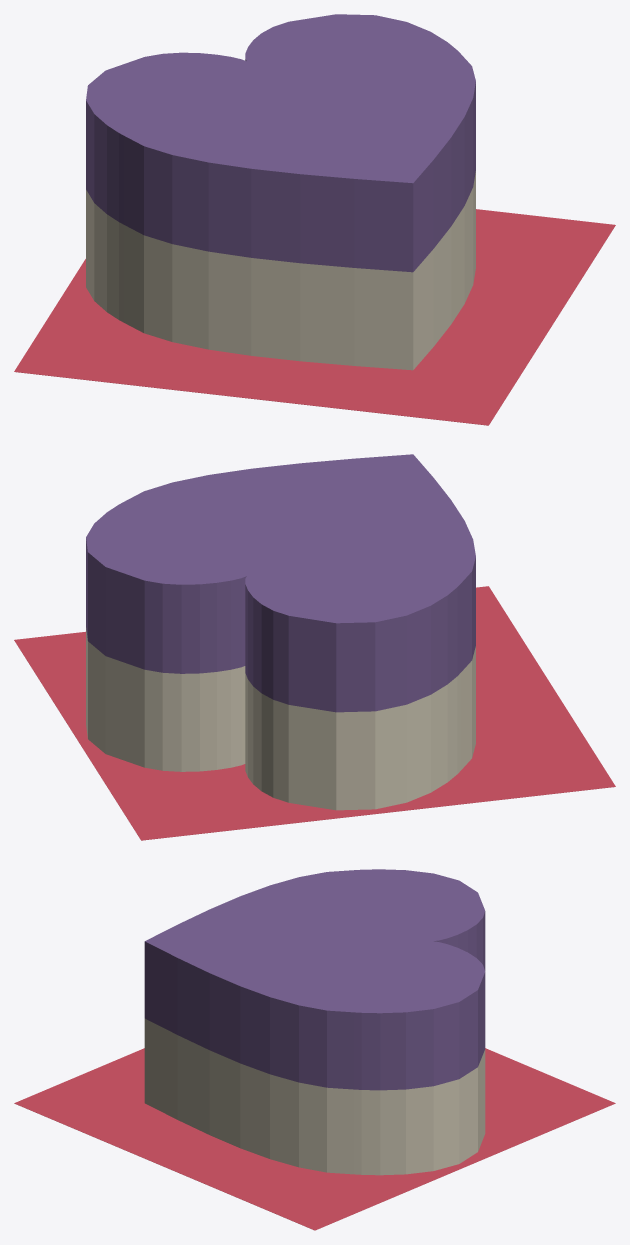
File: VVU.glb
3 renders of one model, top to bottom at view 1: azimuth 30°, elevation 25°; view 2: azimuth 150°, elevation 25°; view 3: azimuth 270°, elevation 25°, orthographic. The views are drawn at different scales.
Visible parts, largest first — view 1: Mesh_Mesh_head_geo.001_lambert2SG.001; view 2: Mesh_Mesh_head_geo.001_lambert2SG.001; view 3: Mesh_Mesh_head_geo.001_lambert2SG.001.
Part boxes in pixels (x1,y1,x2,y2): Mesh_Mesh_head_geo.001_lambert2SG.001: (14, 14, 615, 425); Mesh_Mesh_head_geo.001_lambert2SG.001: (14, 454, 615, 840); Mesh_Mesh_head_geo.001_lambert2SG.001: (14, 869, 615, 1230).
Bounding box in the file's own units: 0.0354 × 0.0105 × 0.0354.
